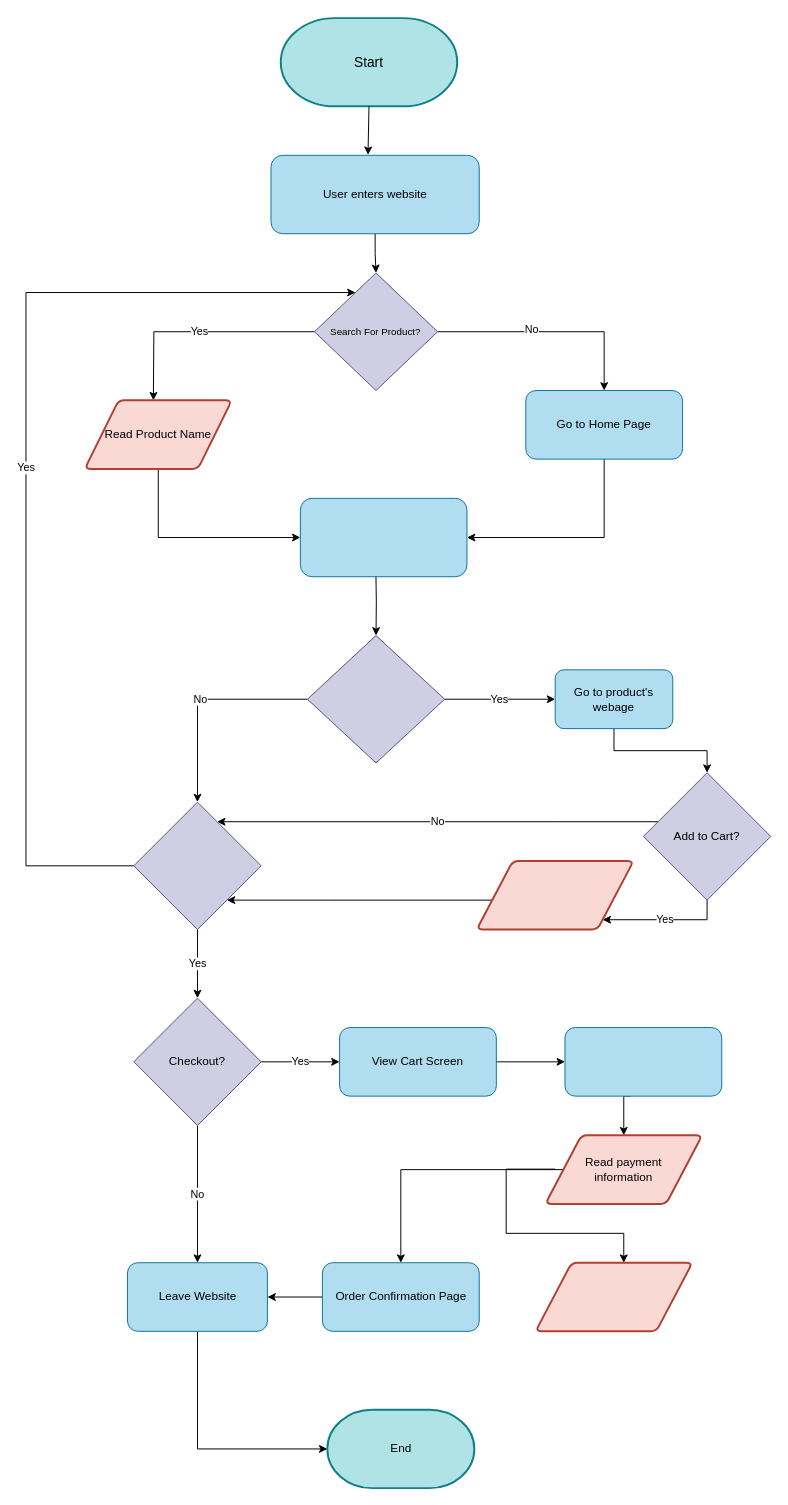
This 788x1505 diagram has some shape labels left out. Here are the shapes that lost their labels. From the top down, the box of each, then its label:
(299, 497, 467, 577): Look over product(s)
(306, 635, 445, 763): View Specific Product?
(133, 801, 261, 930): Continue Shopping?
(475, 859, 634, 930): Send added to cart confirmation
(564, 1027, 722, 1096): View Payment Screen
(534, 1261, 693, 1332): Send order email
